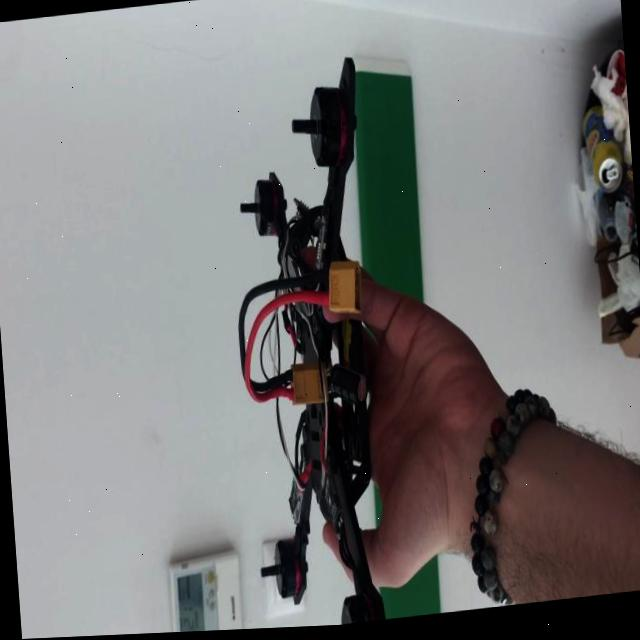drone: (222, 52, 388, 632)
